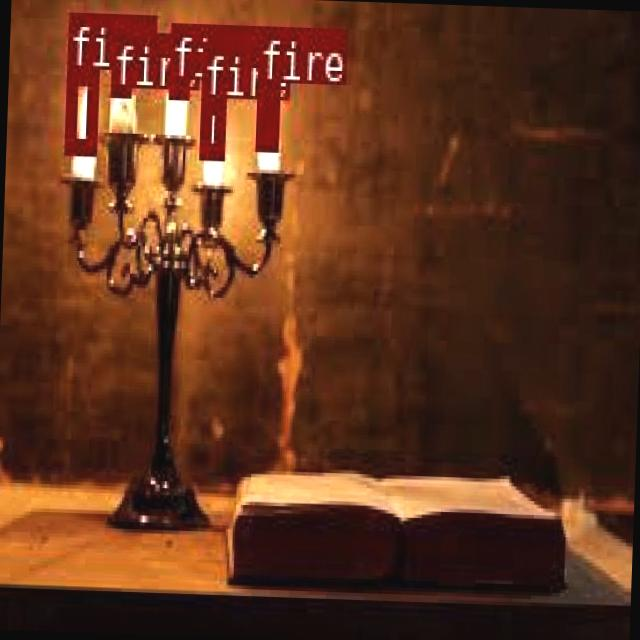fire: (62, 64, 96, 152), (197, 96, 224, 156), (168, 19, 188, 95), (254, 81, 276, 148), (110, 30, 132, 94)
